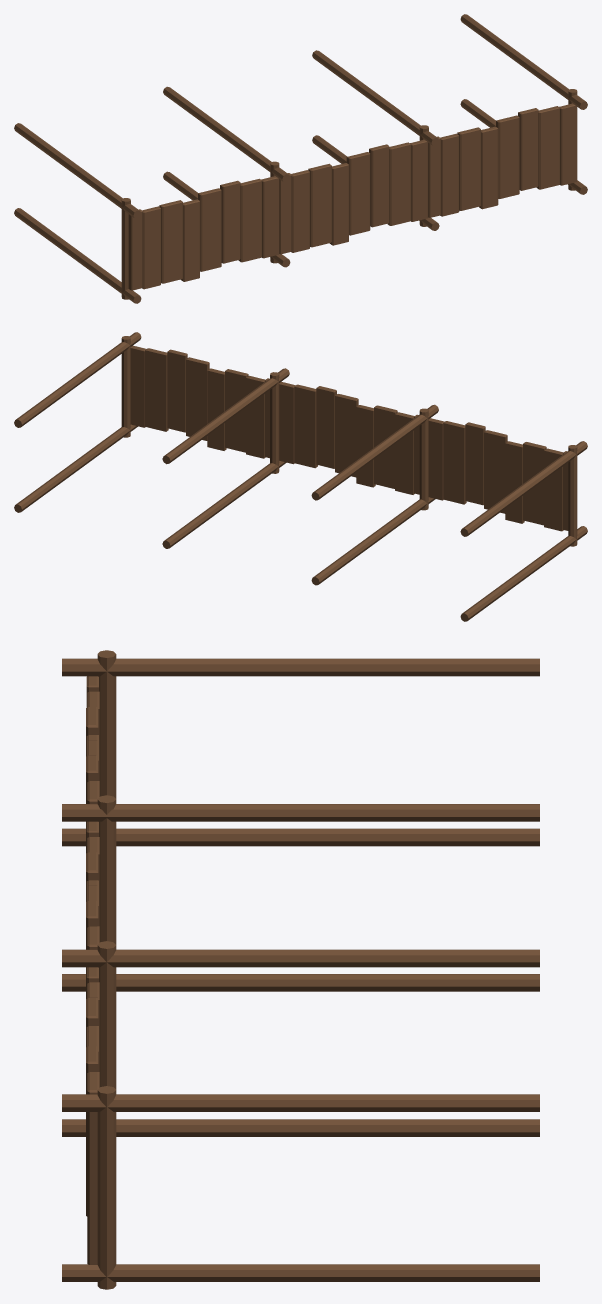
File: Dock_03_6m.fbx
3 renders of one model, top to bottom at view 1: azimuth 30°, elevation 25°; view 2: azimuth 150°, elevation 25°; view 3: azimuth 270°, elevation 25°, orthographic. The views are drawn at different scales.
Parts seen in each view (by area): view 1: ponton_3.6M; view 2: ponton_3.6M; view 3: ponton_3.6M.
Boxes of the visible parts, x1,y1,x2,y2 form: ponton_3.6M: [14, 14, 587, 303]; ponton_3.6M: [14, 332, 587, 621]; ponton_3.6M: [62, 650, 539, 1289].
Size of the model in its own units: 611 by 126 by 278.
